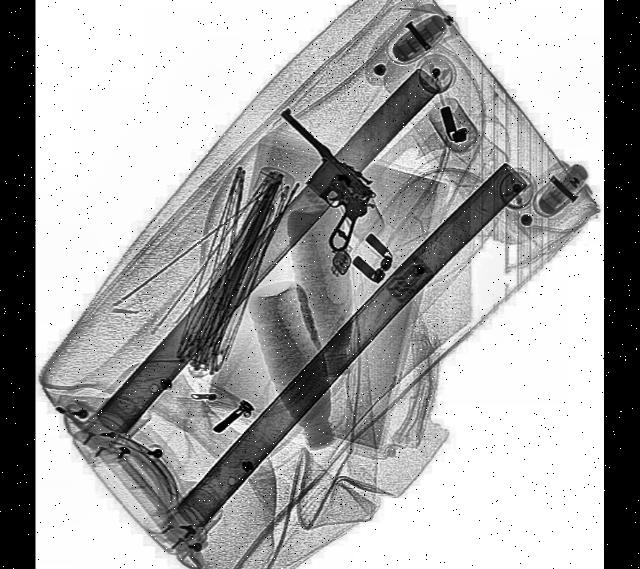Gun: (246, 100, 381, 256)
